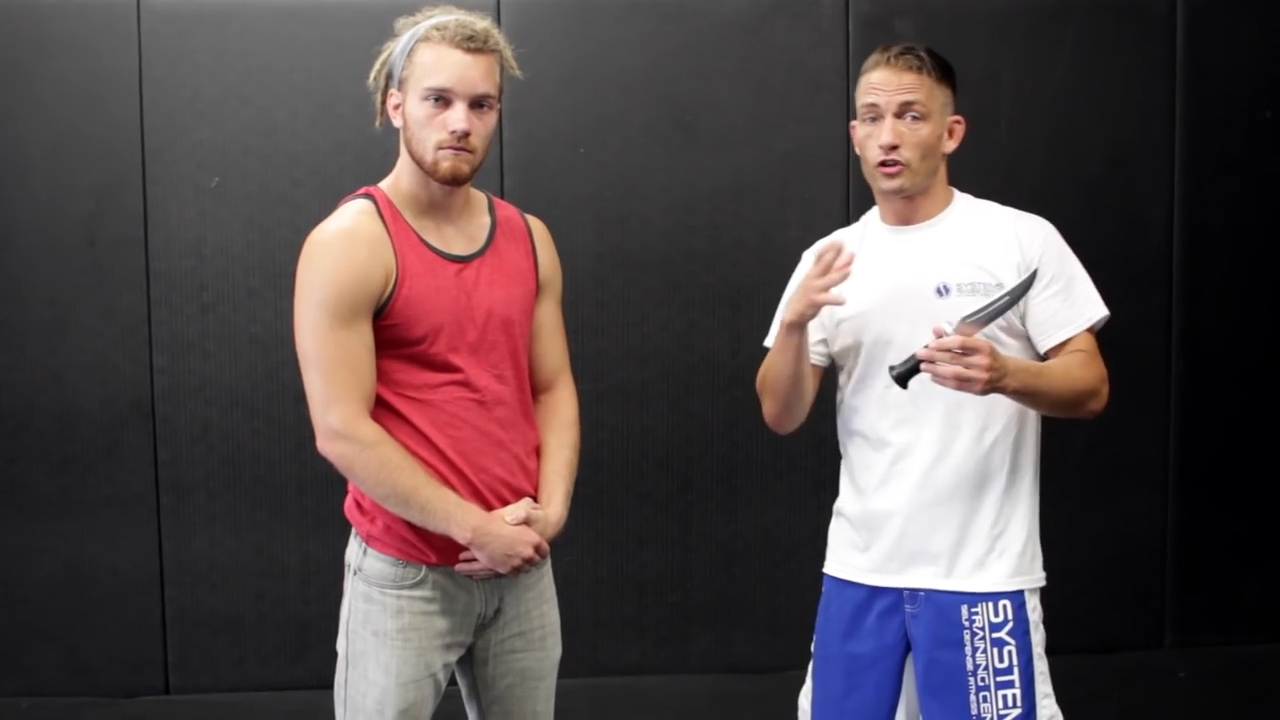knife: (880, 258, 1049, 395)
